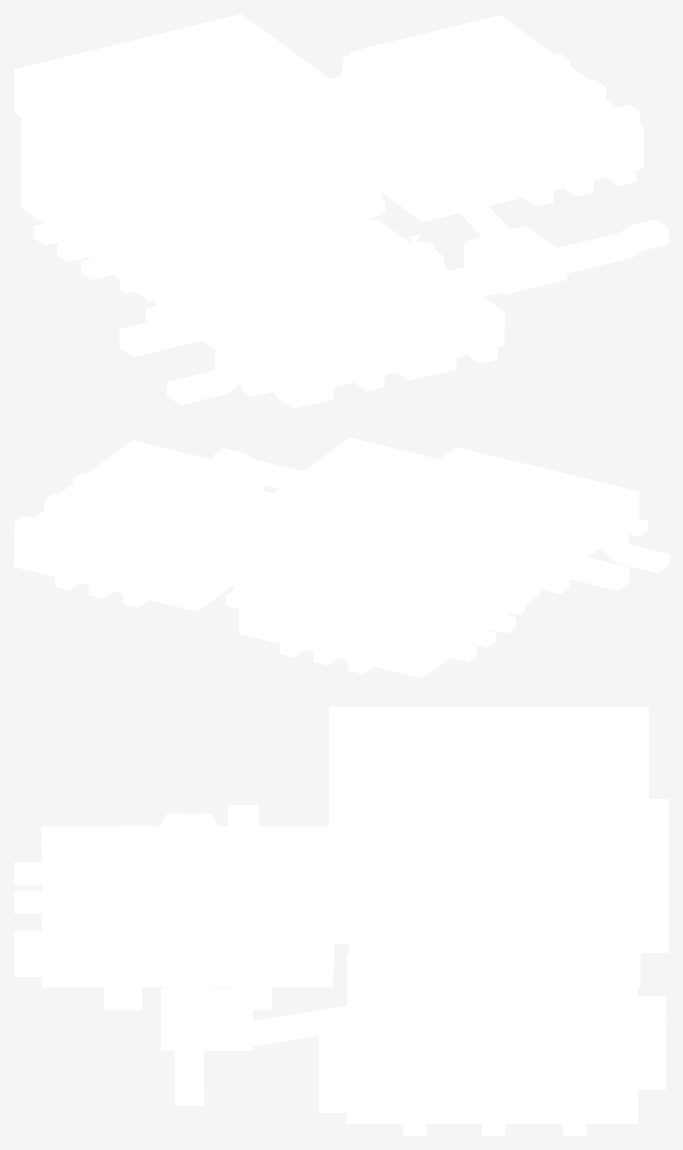
File: stage.glb
The picture shows the model from 3 angles, top to bottom: view 1: azimuth 30°, elevation 25°; view 2: azimuth 150°, elevation 25°; view 3: azimuth 270°, elevation 25°; orthographic projection. The views are drawn at different scales.
Visible parts, largest first — view 1: KORE_export_5_02_1.0_0_0, KORE_export_5_ceiling_1.0_0_0.001, KORE_export_5_MetalFrames_1.0_0_0, KORE_export_7_cage_1.0_0_0, KORE_export_5_door_1.0_0_0, KORE_export_5_ground_1.0_0_0.001; view 2: KORE_export_5_02_1.0_0_0, KORE_export_5_ceiling_1.0_0_0.001, KORE_export_5_MetalFrames_1.0_0_0, KORE_export_7_cage_1.0_0_0, KORE_export_5_ground_1.0_0_0.001, KORE_export_5_door_1.0_0_0; view 3: KORE_export_5_02_1.0_0_0, KORE_export_5_ceiling_1.0_0_0.001, KORE_export_5_MetalFrames_1.0_0_0, KORE_export_7_cage_1.0_0_0, KORE_export_5_ground_1.0_0_0.001.
Part boxes in pixels (bbox=[...]): KORE_export_5_02_1.0_0_0: bbox=[14, 14, 643, 405]; KORE_export_5_ceiling_1.0_0_0.001: bbox=[33, 53, 667, 408]; KORE_export_5_MetalFrames_1.0_0_0: bbox=[21, 15, 647, 401]; KORE_export_7_cage_1.0_0_0: bbox=[113, 16, 584, 269]; KORE_export_5_door_1.0_0_0: bbox=[557, 219, 668, 273]; KORE_export_5_ground_1.0_0_0.001: bbox=[241, 77, 533, 321]; KORE_export_5_02_1.0_0_0: bbox=[14, 437, 668, 678]; KORE_export_5_ceiling_1.0_0_0.001: bbox=[15, 447, 647, 673]; KORE_export_5_MetalFrames_1.0_0_0: bbox=[51, 440, 665, 666]; KORE_export_7_cage_1.0_0_0: bbox=[62, 442, 448, 540]; KORE_export_5_ground_1.0_0_0.001: bbox=[106, 492, 199, 523]; KORE_export_5_door_1.0_0_0: bbox=[213, 448, 302, 488]; KORE_export_5_02_1.0_0_0: bbox=[42, 707, 648, 1123]; KORE_export_5_ceiling_1.0_0_0.001: bbox=[14, 769, 668, 1135]; KORE_export_5_MetalFrames_1.0_0_0: bbox=[41, 769, 640, 1121]; KORE_export_7_cage_1.0_0_0: bbox=[169, 761, 590, 1017]; KORE_export_5_ground_1.0_0_0.001: bbox=[69, 864, 589, 1105].
Size of the model in its own units: 18 by 5.12 by 15.32.
Materials: 7 (7 with a texture image).
